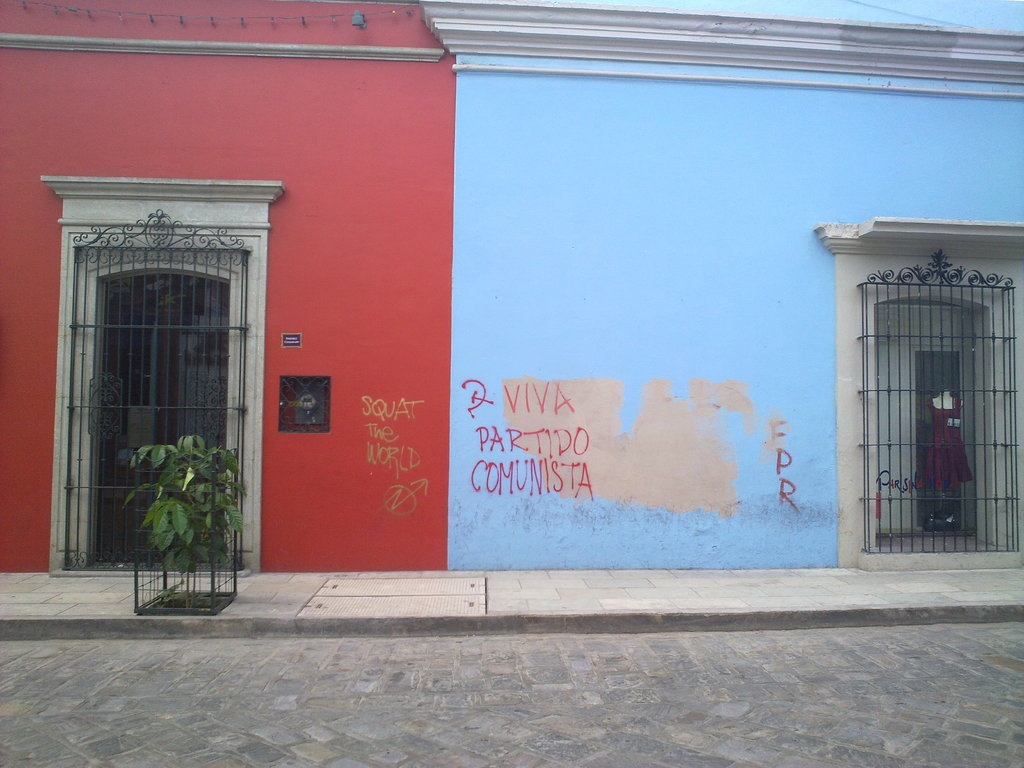Door: (95, 261, 228, 564)
